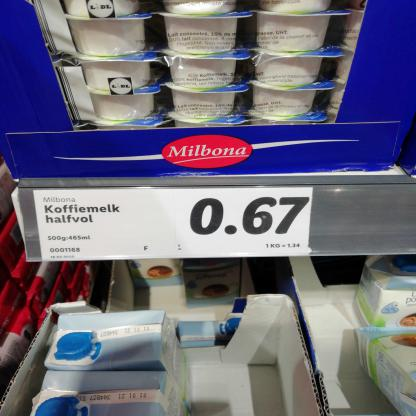prtg: (34, 188, 313, 262)
